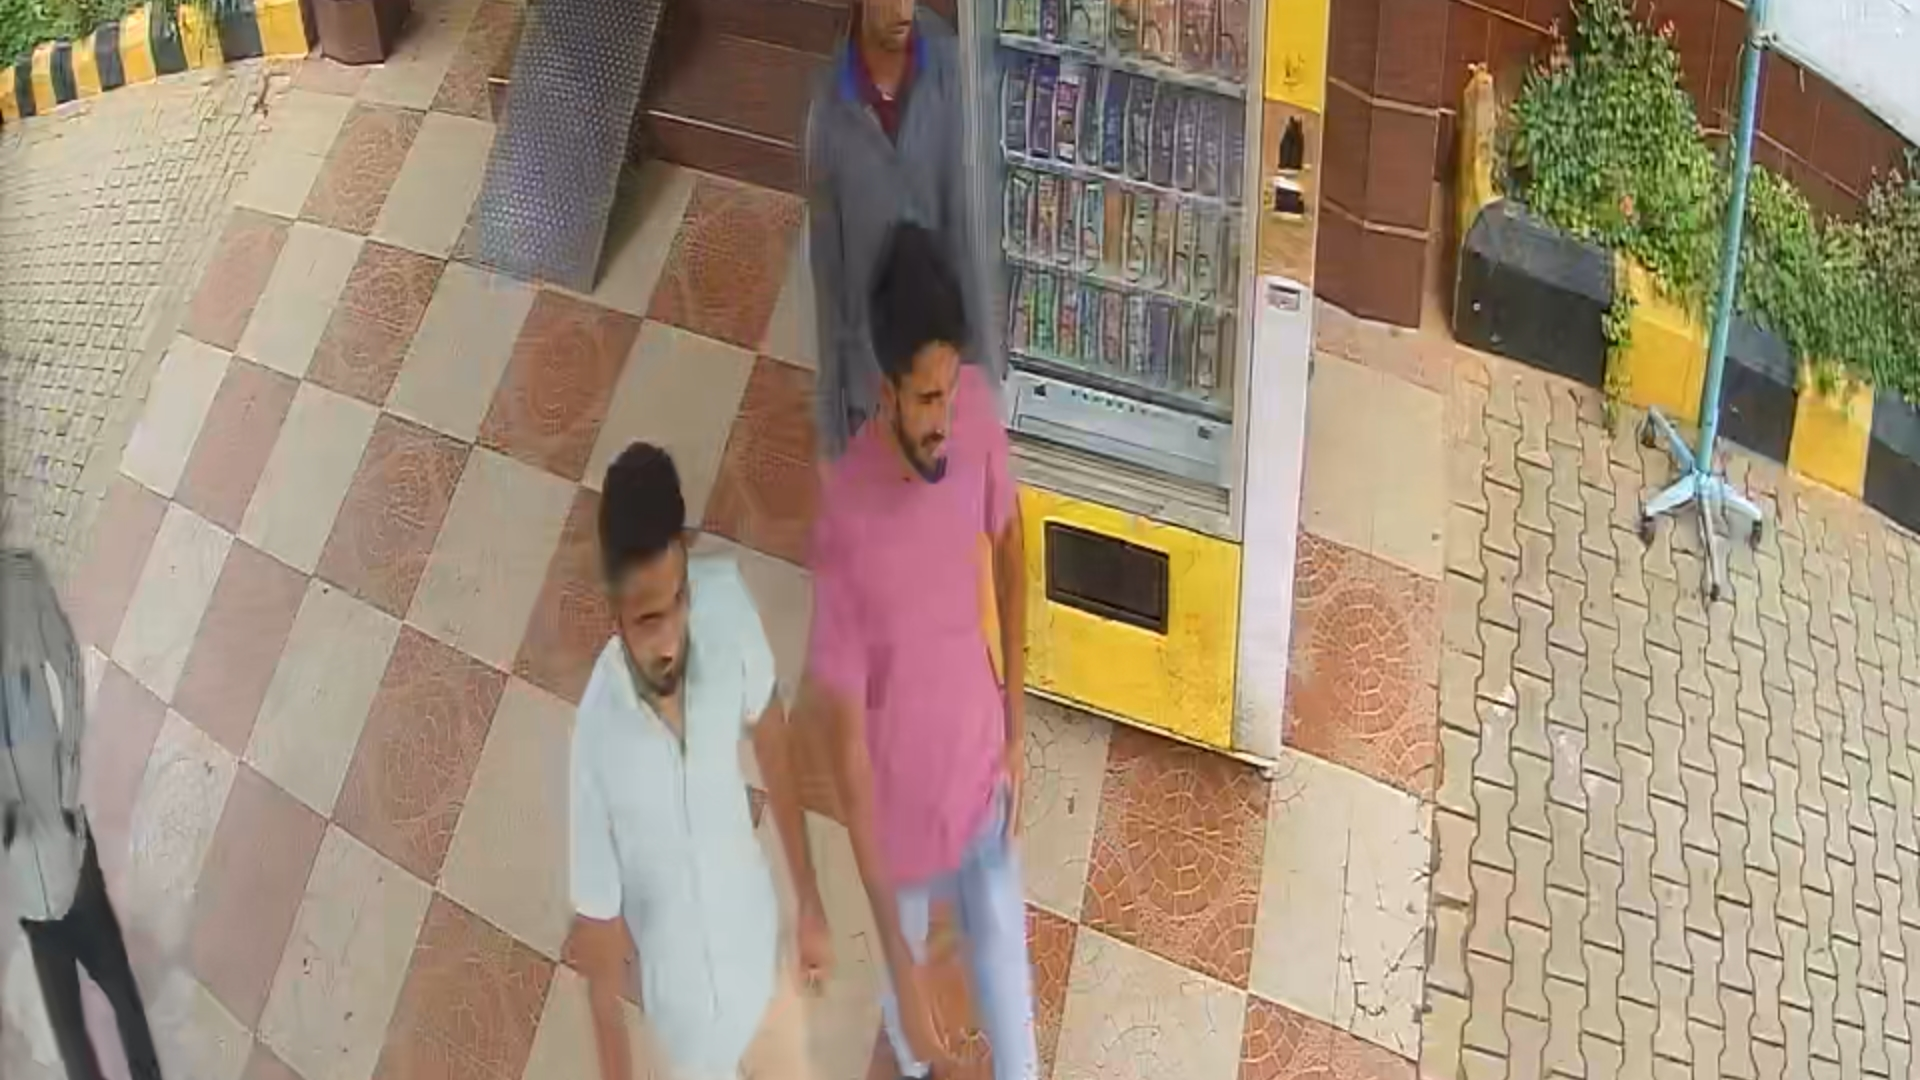intruder: (823, 280, 1059, 1080), (541, 438, 825, 1080)
